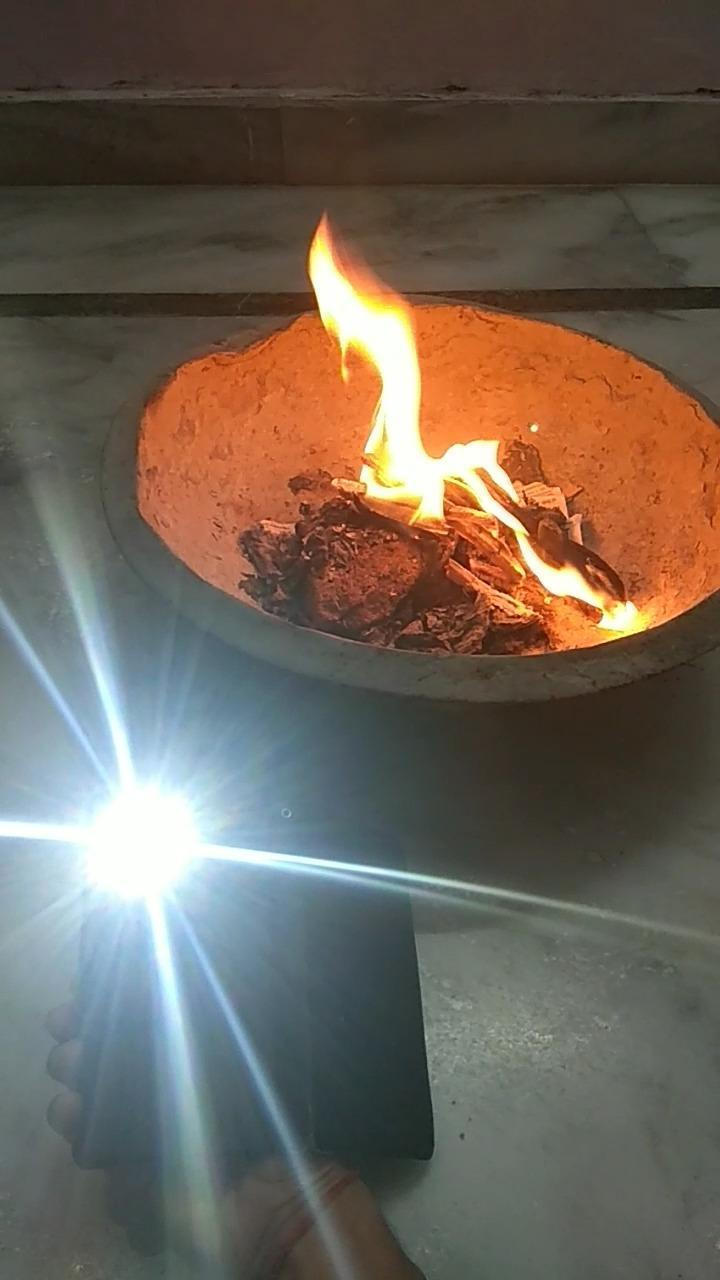fire: (283, 205, 645, 636)
